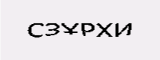А: (61, 22, 77, 45)
З: (98, 22, 117, 48), (43, 22, 53, 46)
И: (78, 24, 97, 49)
П: (50, 24, 65, 44)
